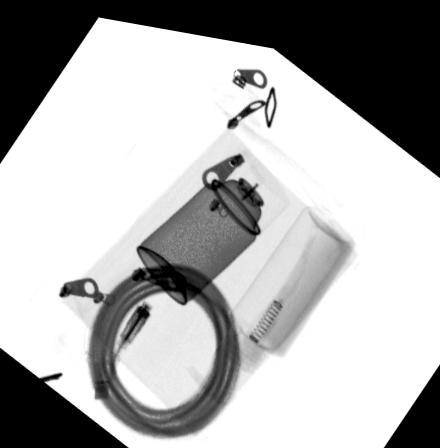Sprayer: (135, 136, 292, 299)
